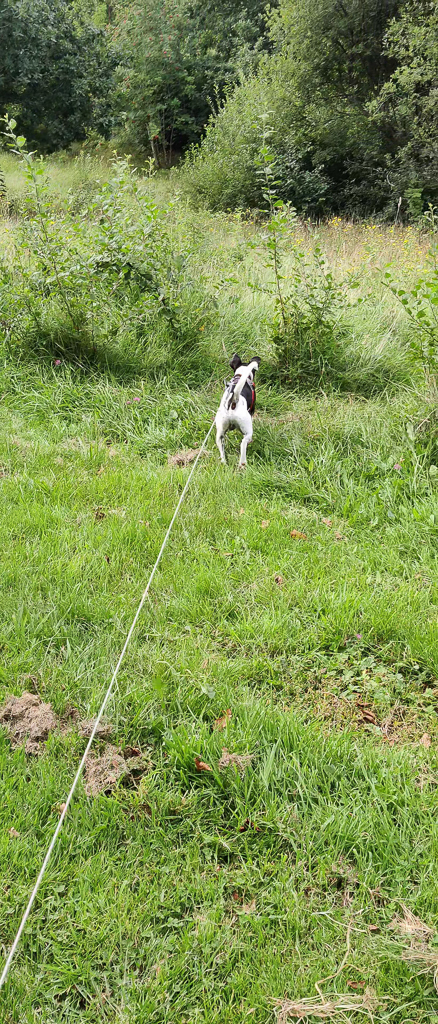Dog: (205, 345, 274, 477)
